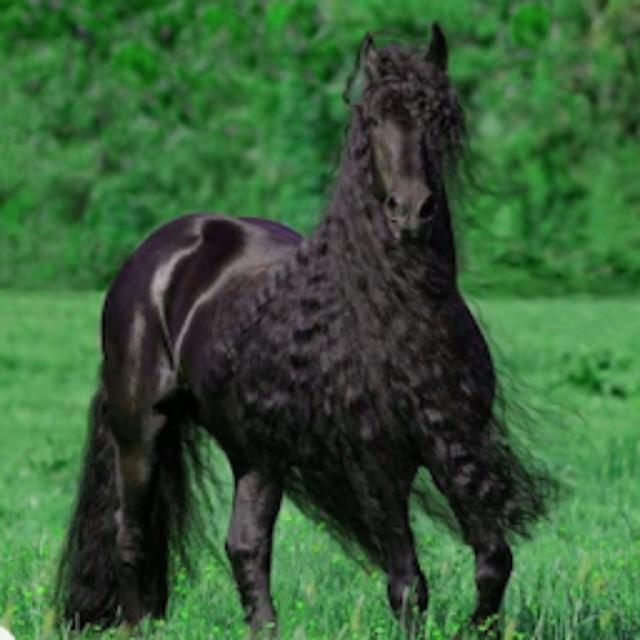Horse: (40, 18, 565, 638)
